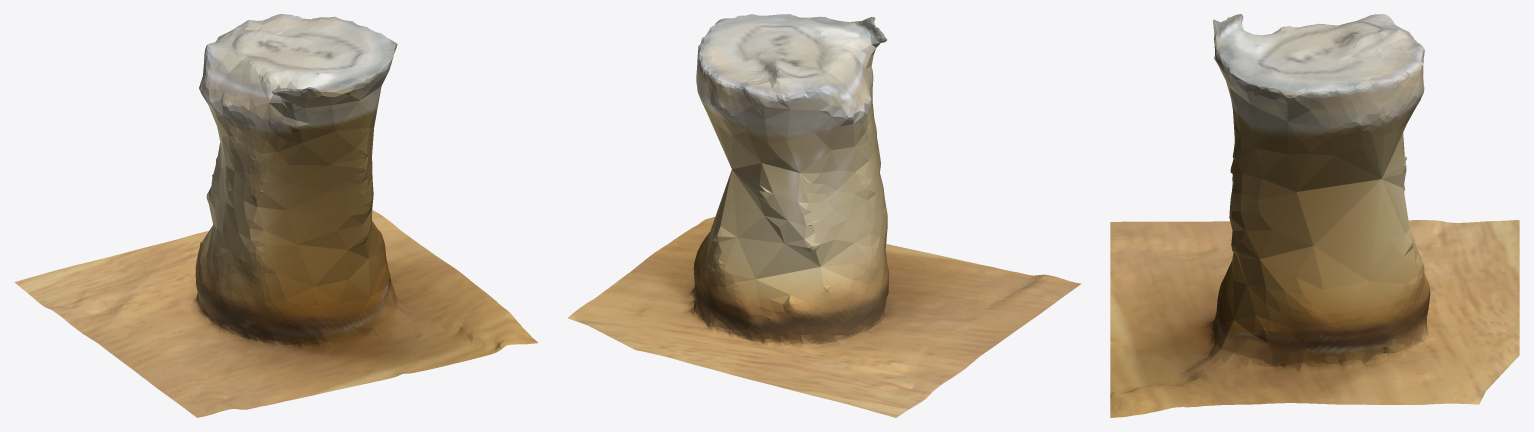
The model's file is purin01.glb.
The picture shows the model from 3 angles, left to right: view 1: azimuth 30°, elevation 25°; view 2: azimuth 150°, elevation 25°; view 3: azimuth 270°, elevation 25°; orthographic projection. The views are drawn at different scales.
Visible parts, largest first — view 1: mesh; view 2: mesh; view 3: mesh.
Part boxes in pixels (x1,y1,x2,y2): mesh: [14, 14, 538, 417]; mesh: [567, 14, 1081, 417]; mesh: [1110, 14, 1519, 417].
Bounding box in the file's own units: 0.1028 × 0.0767 × 0.0953.
Materials: 1 (1 with a texture image).
